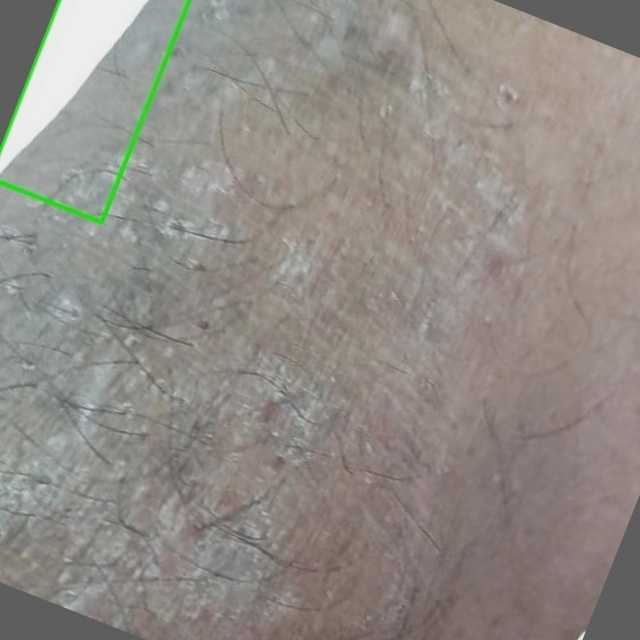Contact Dermatitis: (0, 0, 189, 223)
